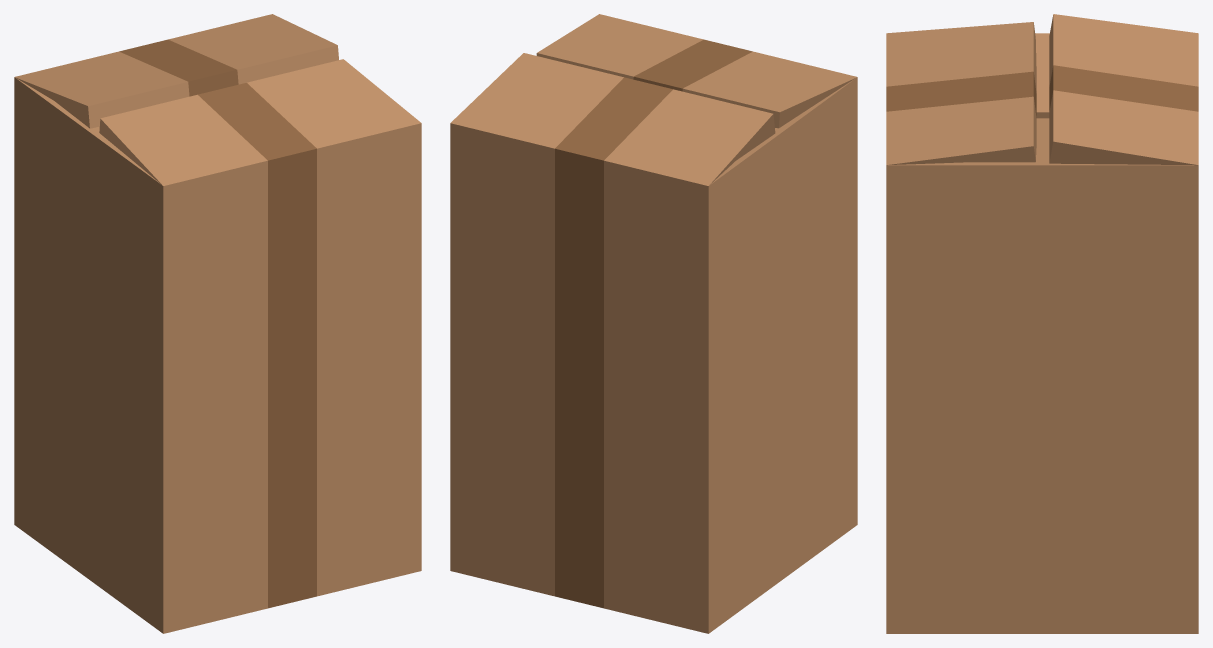
Rendered from BoxClosed3.fbx.
3 views of the same model, side by side, from view 1: azimuth 30°, elevation 25°; view 2: azimuth 150°, elevation 25°; view 3: azimuth 270°, elevation 25° (orthographic). The views are drawn at different scales.
Parts seen in each view (by area): view 1: BoxClosed3; view 2: BoxClosed3; view 3: BoxClosed3.
Boxes of the visible parts, <box> form: BoxClosed3: <box>14,14,421,633</box>; BoxClosed3: <box>450,14,857,633</box>; BoxClosed3: <box>886,14,1198,633</box>.
Bounding box in the file's own units: 63.12 × 109 × 63.12.
Materials: 1 (1 with a texture image).
